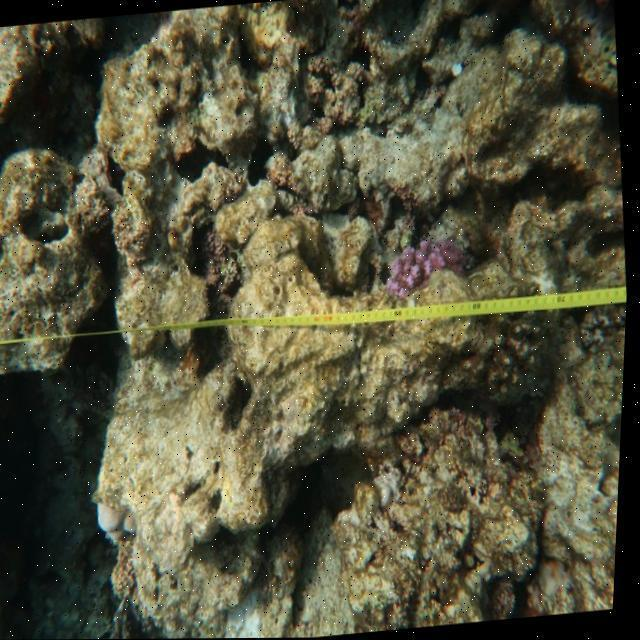Healthy Coral: (384, 234, 471, 296)
